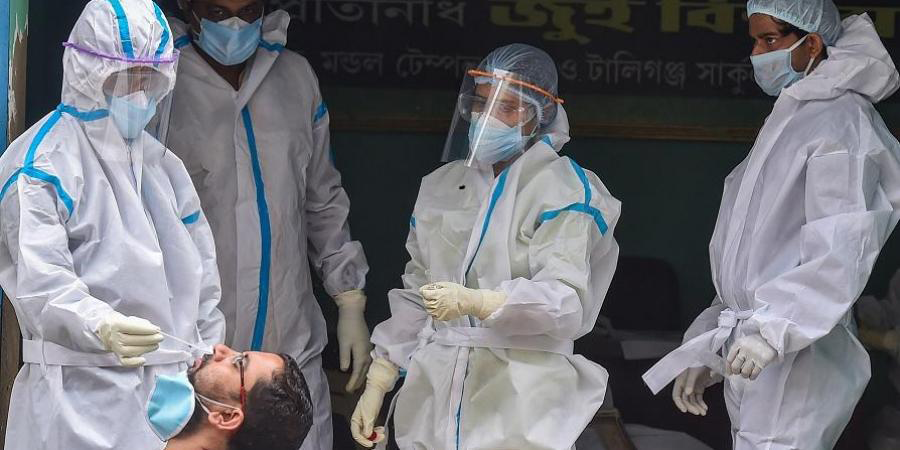Coverall: (370, 29, 622, 450), (1, 1, 232, 446), (704, 1, 900, 450)
Gloves: (349, 356, 408, 450), (331, 291, 377, 392), (420, 274, 504, 323), (102, 312, 164, 373), (724, 330, 777, 381), (672, 354, 711, 421)
Mask: (460, 104, 538, 167), (192, 2, 263, 68), (745, 33, 812, 98), (105, 80, 157, 141)
